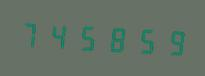eight: (102, 20, 129, 57)
five: (74, 18, 101, 55), (130, 21, 157, 58)
four: (45, 17, 72, 54)
nine: (158, 22, 185, 60)
seven: (17, 15, 44, 52)
